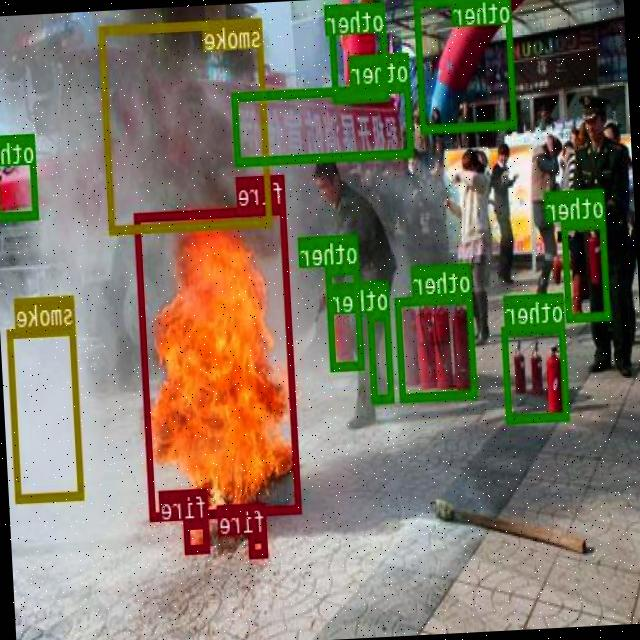fire: (135, 204, 303, 520), (186, 518, 212, 553), (250, 533, 268, 557)
smoke: (100, 18, 273, 234), (8, 324, 85, 502)
